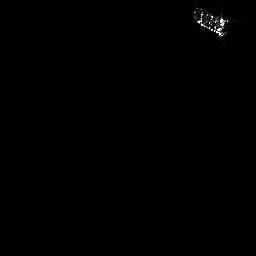ship: (192, 7, 229, 37)
